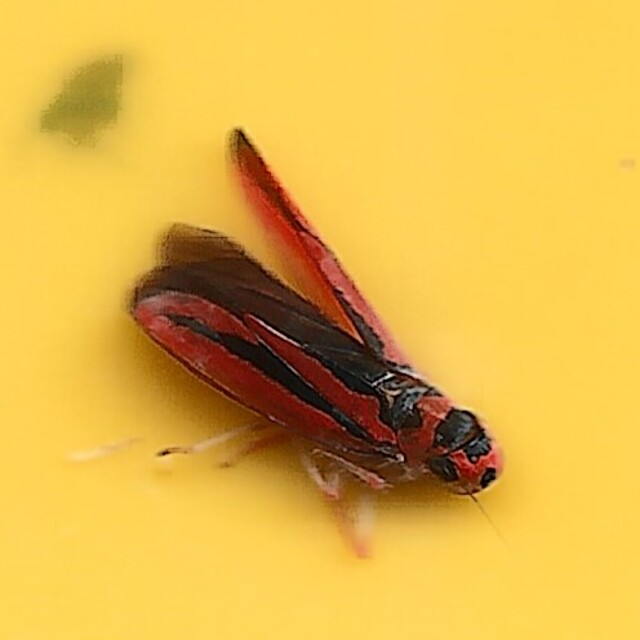Hemiptera: (129, 124, 511, 516)
